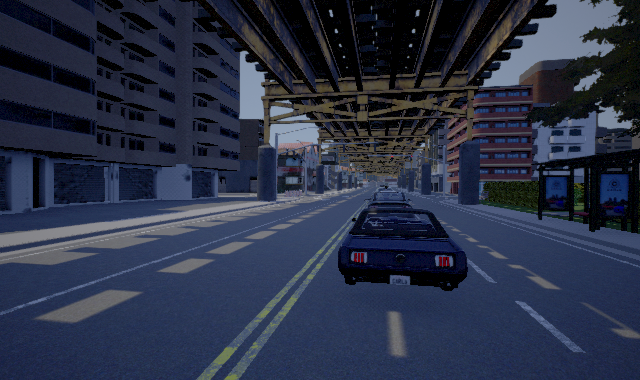traffic_light: (410, 155, 412, 161), (391, 156, 393, 161)
vehicle: (338, 203, 468, 291), (369, 189, 412, 223)
